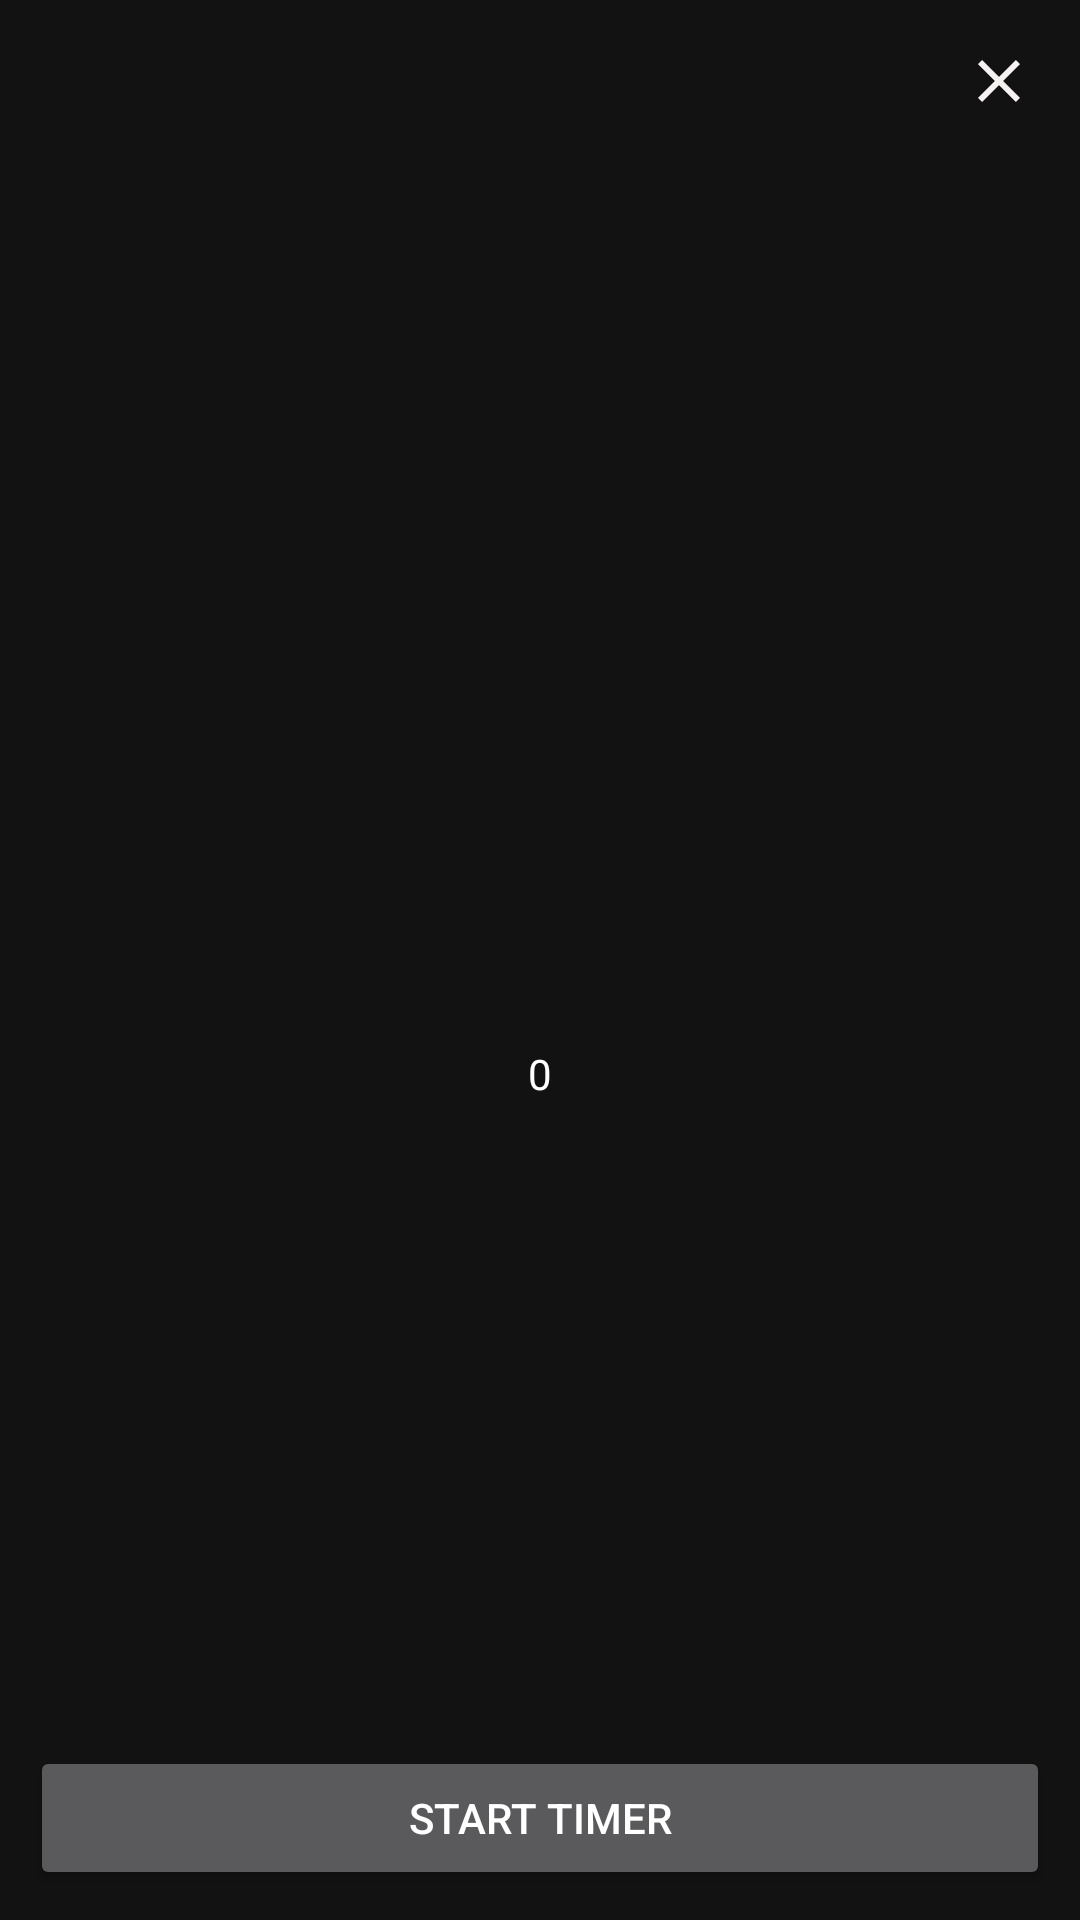

Icon bounding boxes for this 1080 x 1920 phone screenshot, format (x1, y1, x2, y2):
close: (978, 60, 1020, 102)
